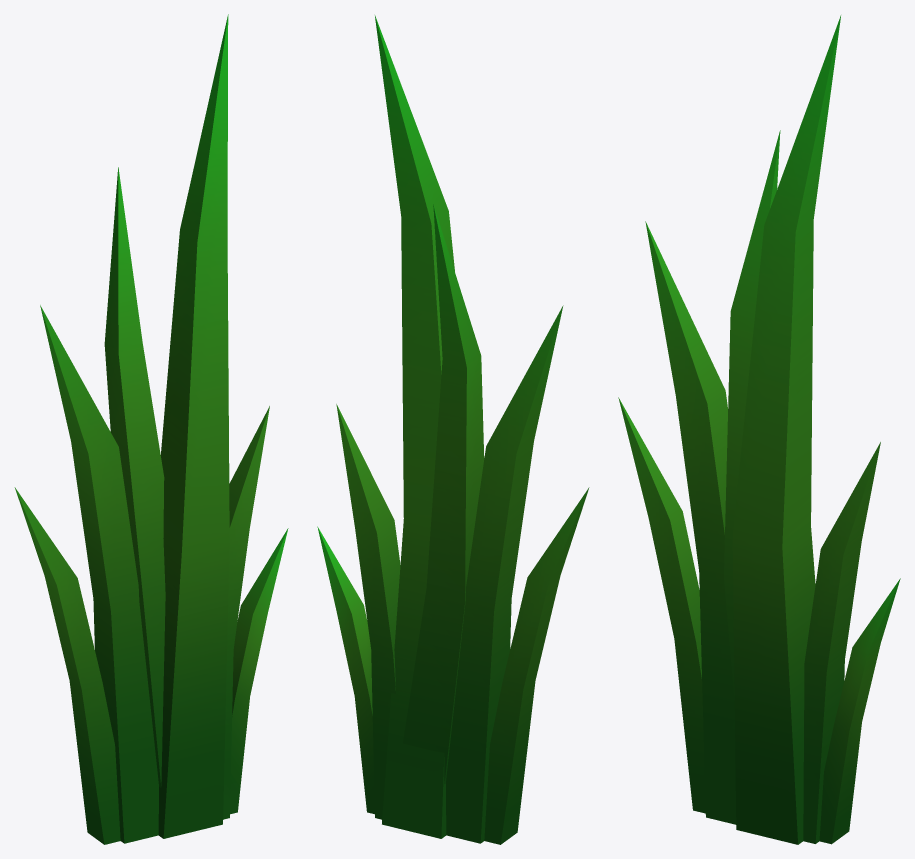
File: MediumGrass.FBX
3 views of the same model, side by side, from view 1: azimuth 30°, elevation 25°; view 2: azimuth 150°, elevation 25°; view 3: azimuth 330°, elevation 25° (orthographic). The views are drawn at different scales.
Parts seen in each view (by area): view 1: Box010; view 2: Box010; view 3: Box010.
Part boxes in pixels (x1,y1,x2,y2): Box010: (14,14,288,844); Box010: (317,15,589,844); Box010: (618,15,900,844).
Bounding box in the file's own units: 14.27 × 39.54 × 4.96.
